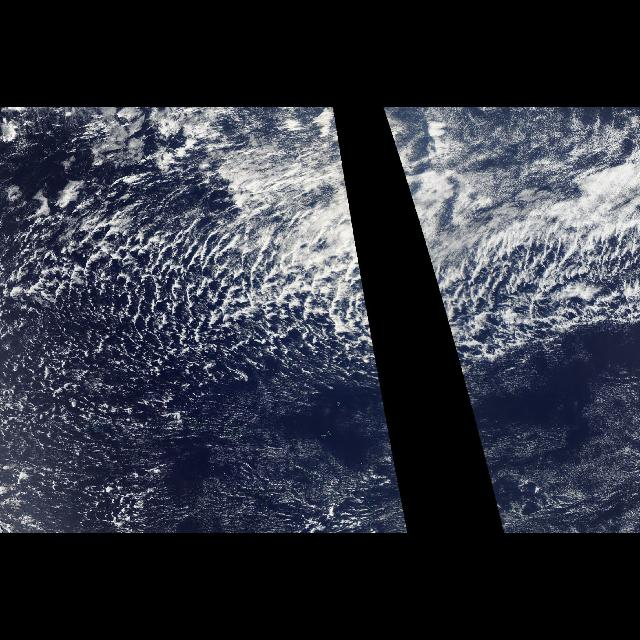Gravel: (14, 174, 328, 508)
Sugar: (464, 332, 638, 528), (202, 420, 406, 530), (392, 126, 628, 214), (246, 135, 350, 215)
